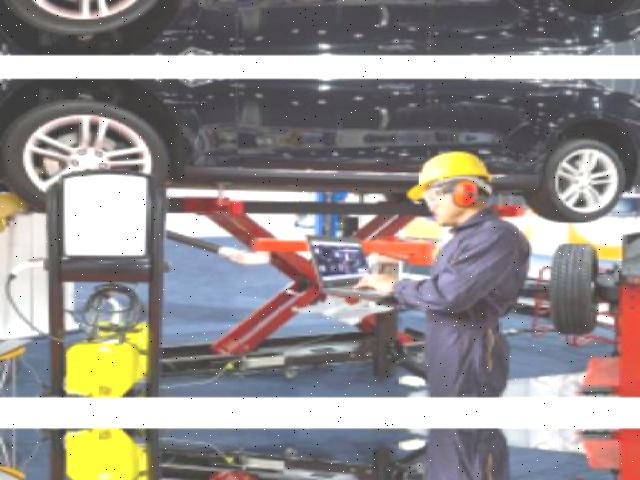Helmet: (404, 146, 503, 204)
